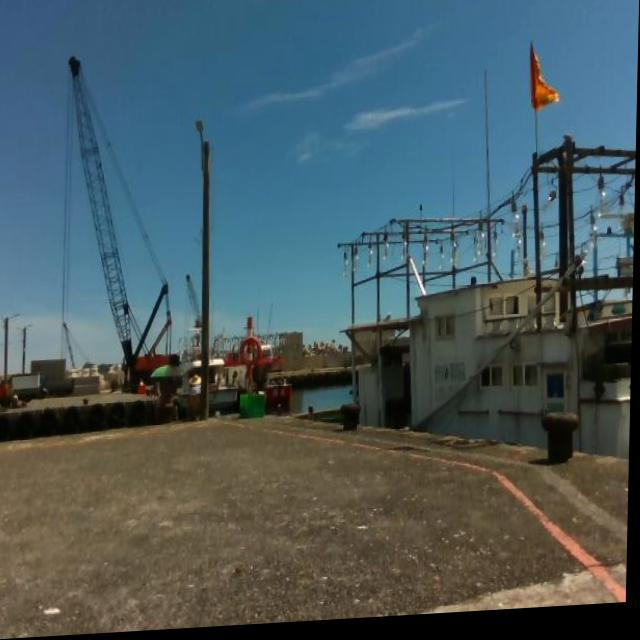pollute: (44, 604, 66, 618)
